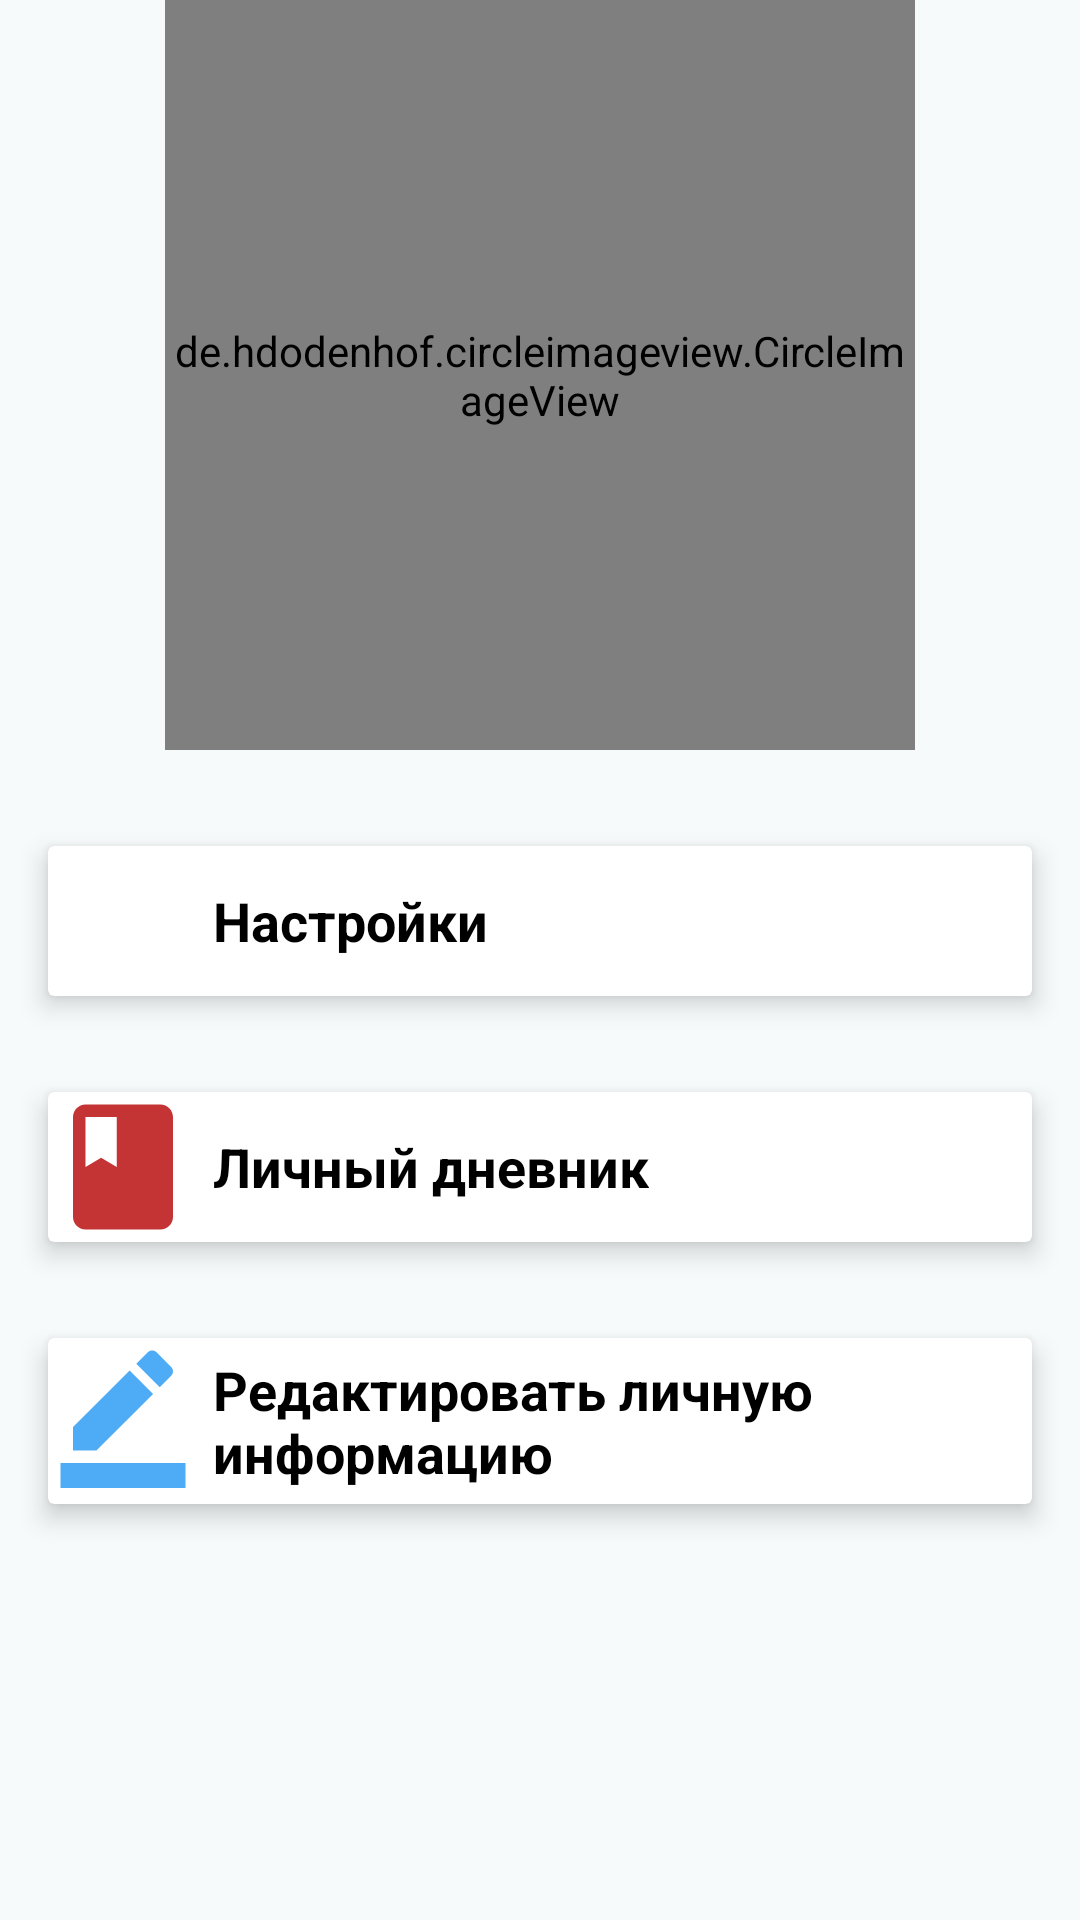

Screen size 1080×1920. Icon name, then its center in pixels as (x=x, y=y):
change personal data: (x=123, y=1419)
dairy book: (x=123, y=1167)
